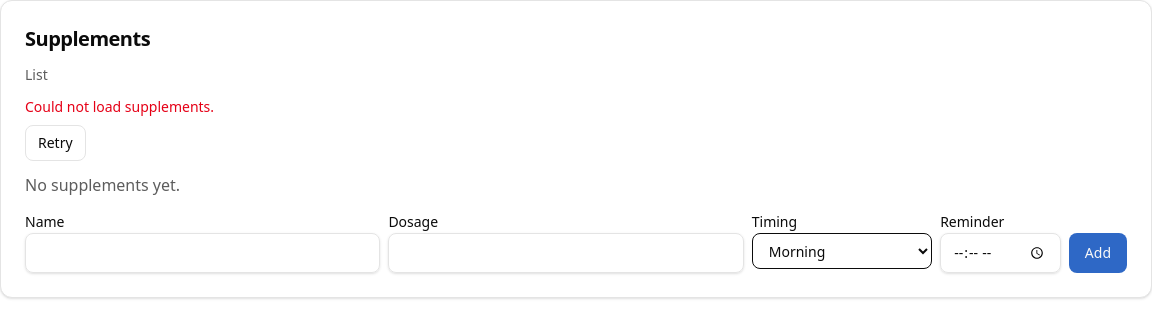
Scenario: SupplementsSection › shows an inline error banner with retry when supplements fail to load
The width and height of the screenshot is (1152, 316).
Expected: the message reads "Could not load supplements.", left=25, top=97, right=214, bottom=116
Step 1. Click the button "Retry" → click(55, 143), box left=25, top=125, right=86, bottom=161
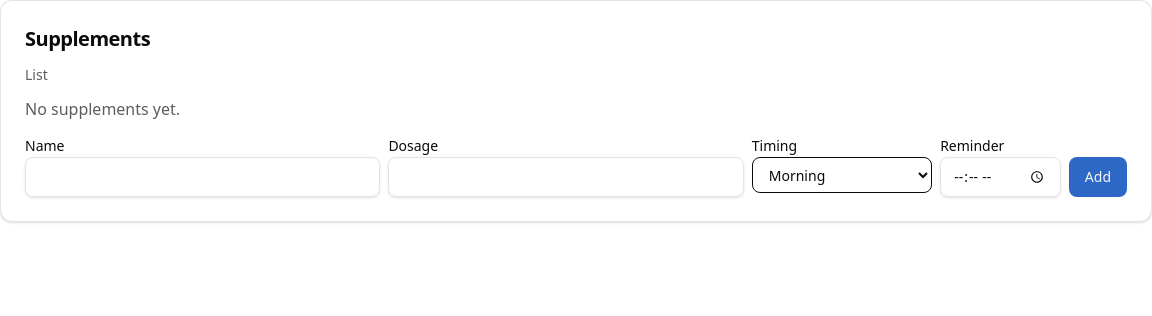
Expected: the message "Could not load supplements." is gone
